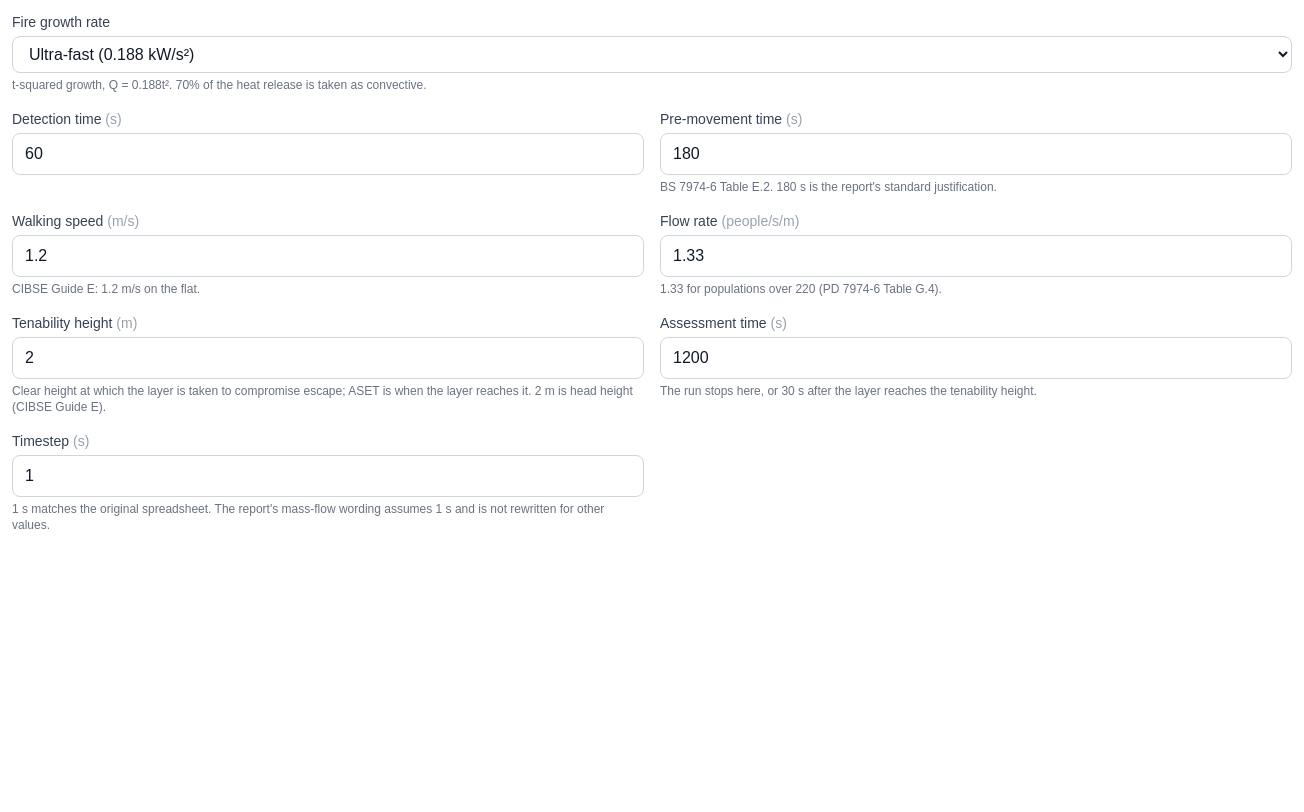
Test case: SharedAssumptionsSection › goes back to a standard rate when one is chosen again
Select "Custom" in the dropdown labelled "Fire growth rate" at (652, 54), box [12, 36, 1292, 73]
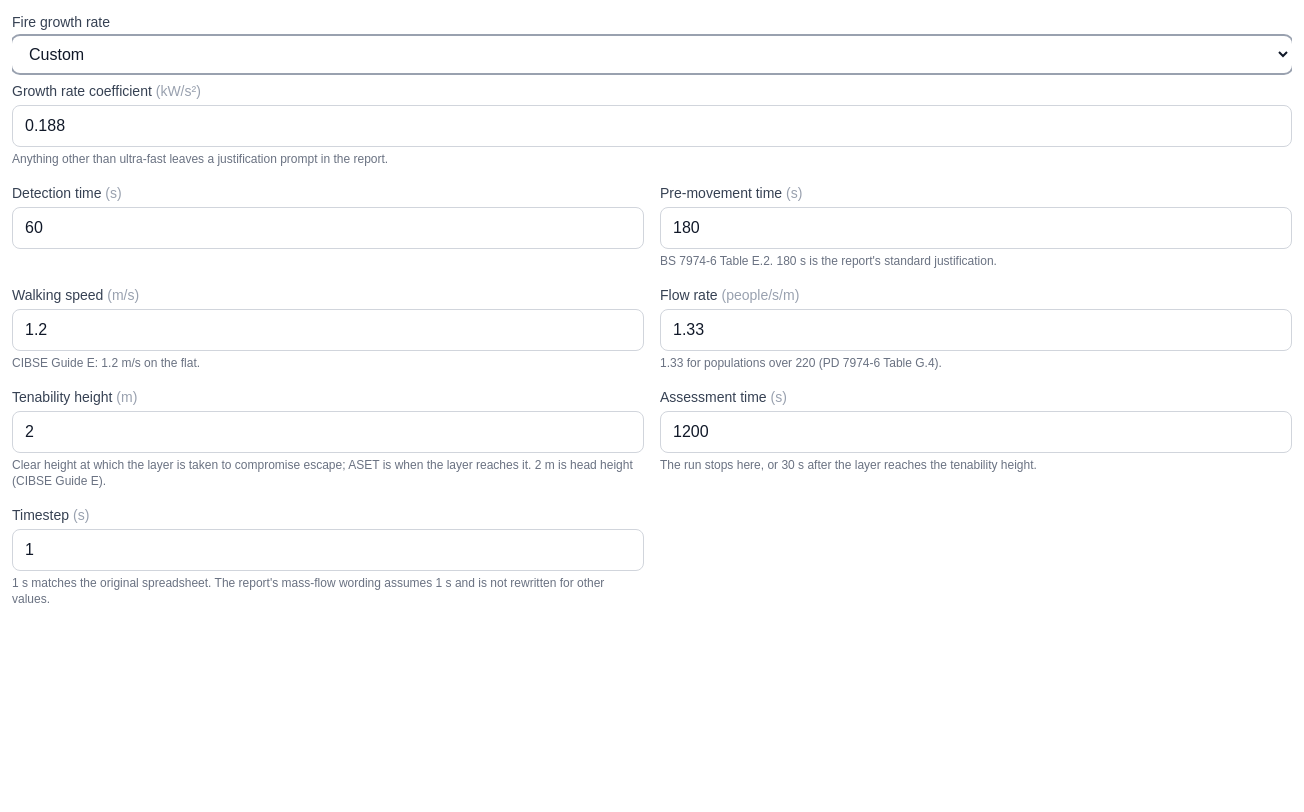
Select "Medium (0.0117 kW/s²)" in the dropdown labelled "Fire growth rate" at (652, 54), box [12, 36, 1292, 73]
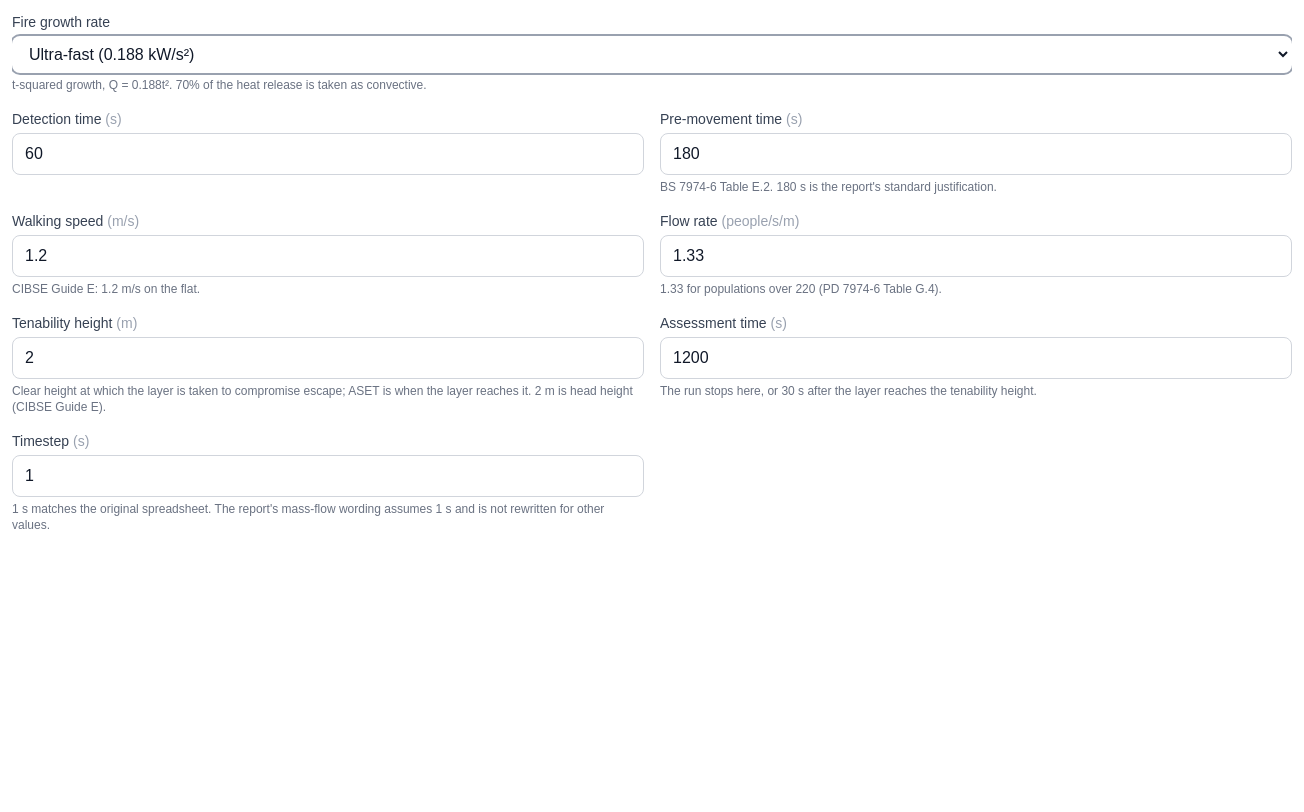
Result: the label labelled "Growth rate coefficient" is gone
